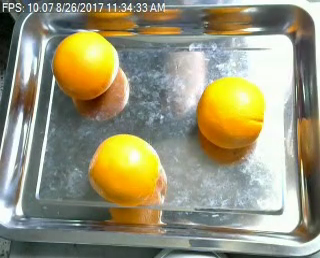Orange: (87, 133, 161, 206), (197, 76, 265, 148), (52, 31, 118, 101)
